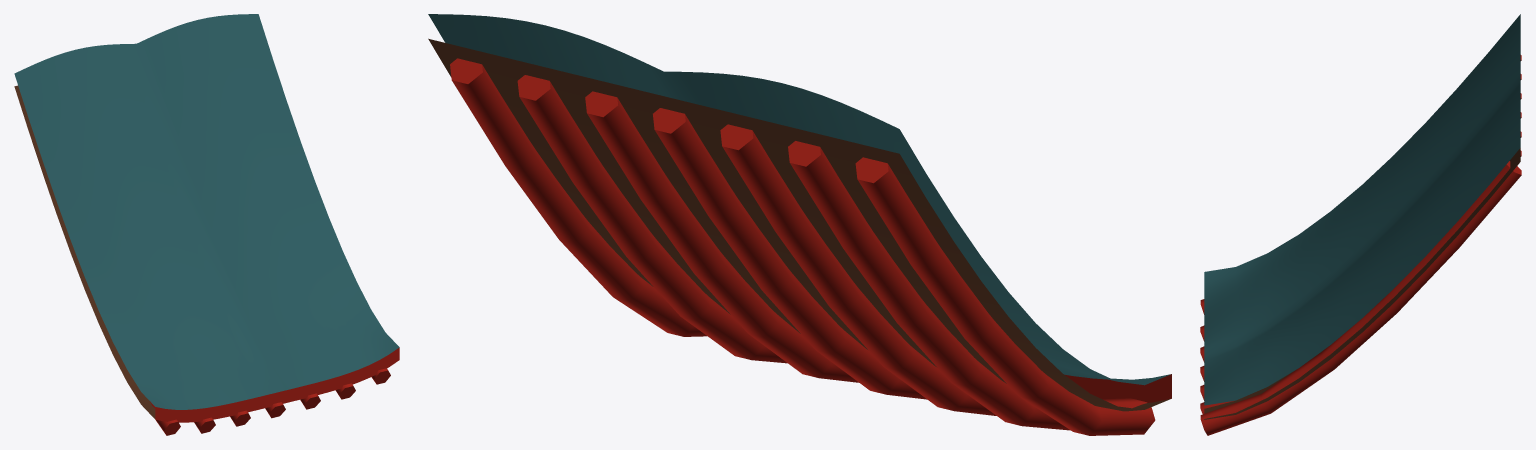
Rendered from awning_canopy.glb.
3 views of the same model, side by side, from view 1: azimuth 30°, elevation 25°; view 2: azimuth 150°, elevation 25°; view 3: azimuth 270°, elevation 25° (orthographic). The views are drawn at different scales.
Visible parts, largest first — view 1: awning_canopy; view 2: awning_canopy; view 3: awning_canopy.
Boxes of the visible parts, x1,y1,x2,y2 form: awning_canopy: [14, 14, 399, 435]; awning_canopy: [428, 14, 1171, 435]; awning_canopy: [1200, 14, 1521, 435].
Bounding box in the file's own units: 1 × 1.1 × 1.02.
